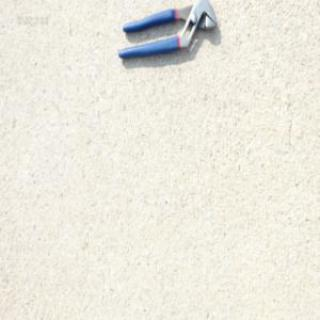Pliertrack_idkeyframe: (116, 0, 216, 61)
